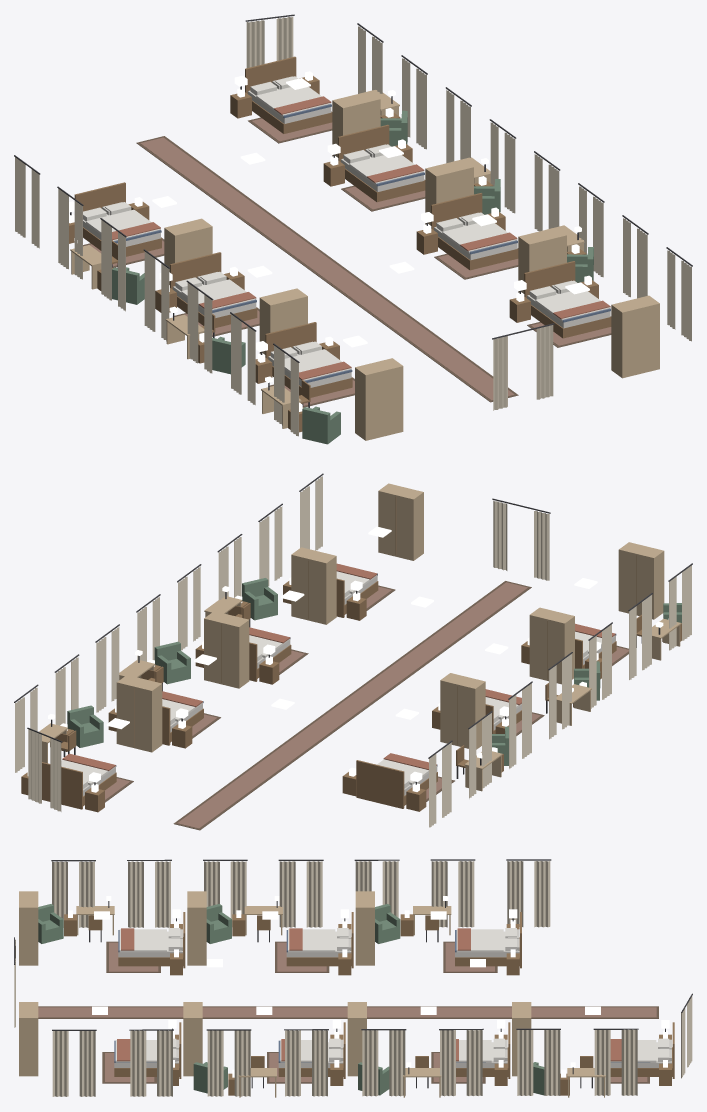
File: fine-s2.glb
The picture shows the model from 3 angles, top to bottom: view 1: azimuth 30°, elevation 25°; view 2: azimuth 150°, elevation 25°; view 3: azimuth 270°, elevation 25°; orthographic projection. The views are drawn at different scales.
Visible parts, largest first — view 1: soft-s2, dresser.013, dresser.009, bed-frame.011, bed-frame.010, bed-frame.012, bed-frame.013, bed-frame.008, bed-frame.009, bed-frame.007, dresser.008, dresser.012 (+9 smaller); view 2: soft-s2, dresser.010, dresser.011, dresser.012, dresser.013, dresser.009, dresser.007, dresser.008, bed-frame.007, bed-frame.010, lounge-chair.009, lounge-chair.010 (+7 smaller); view 3: soft-s2, dresser.007, dresser.008, dresser.009, dresser.013, dresser.012, dresser.011, bed-frame.008, bed-frame.009, bed-frame.007, lounge-chair.007, lounge-chair.008 (+14 smaller).
Part boxes in pixels (<box>): soft-s2: <box>14,14,692,436</box>; dresser.013: <box>611,295,659,378</box>; dresser.009: <box>355,358,403,440</box>; bed-frame.011: <box>338,124,425,202</box>; bed-frame.010: <box>245,56,332,133</box>; bed-frame.012: <box>431,193,518,270</box>; bed-frame.013: <box>524,261,611,338</box>; bed-frame.008: <box>170,252,257,327</box>; bed-frame.009: <box>265,322,352,397</box>; bed-frame.007: <box>74,182,161,256</box>; dresser.008: <box>259,288,307,354</box>; dresser.012: <box>518,227,566,293</box>; soft-s2: <box>14,473,692,830</box>; dresser.010: <box>116,675,162,752</box>; dresser.011: <box>204,611,249,688</box>; dresser.012: <box>291,547,336,624</box>; dresser.013: <box>378,483,423,560</box>; dresser.009: <box>618,542,664,619</box>; dresser.007: <box>440,673,485,749</box>; dresser.008: <box>529,607,574,684</box>; bed-frame.007: <box>356,760,437,808</box>; bed-frame.010: <box>42,762,116,809</box>; lounge-chair.009: <box>67,705,103,747</box>; lounge-chair.010: <box>154,641,190,684</box>; soft-s2: <box>14,859,692,1096</box>; dresser.007: <box>355,891,374,965</box>; dresser.008: <box>187,891,206,965</box>; dresser.009: <box>19,891,38,965</box>; dresser.013: <box>19,1002,38,1076</box>; dresser.012: <box>183,1002,202,1076</box>; dresser.011: <box>347,1002,366,1076</box>; bed-frame.008: <box>286,912,353,968</box>; bed-frame.009: <box>118,912,185,968</box>; bed-frame.007: <box>455,912,521,968</box>; lounge-chair.007: <box>206,904,231,943</box>; lounge-chair.008: <box>38,904,63,943</box>.
Size of the model in its own units: 12.62 by 2.36 by 21.21.
